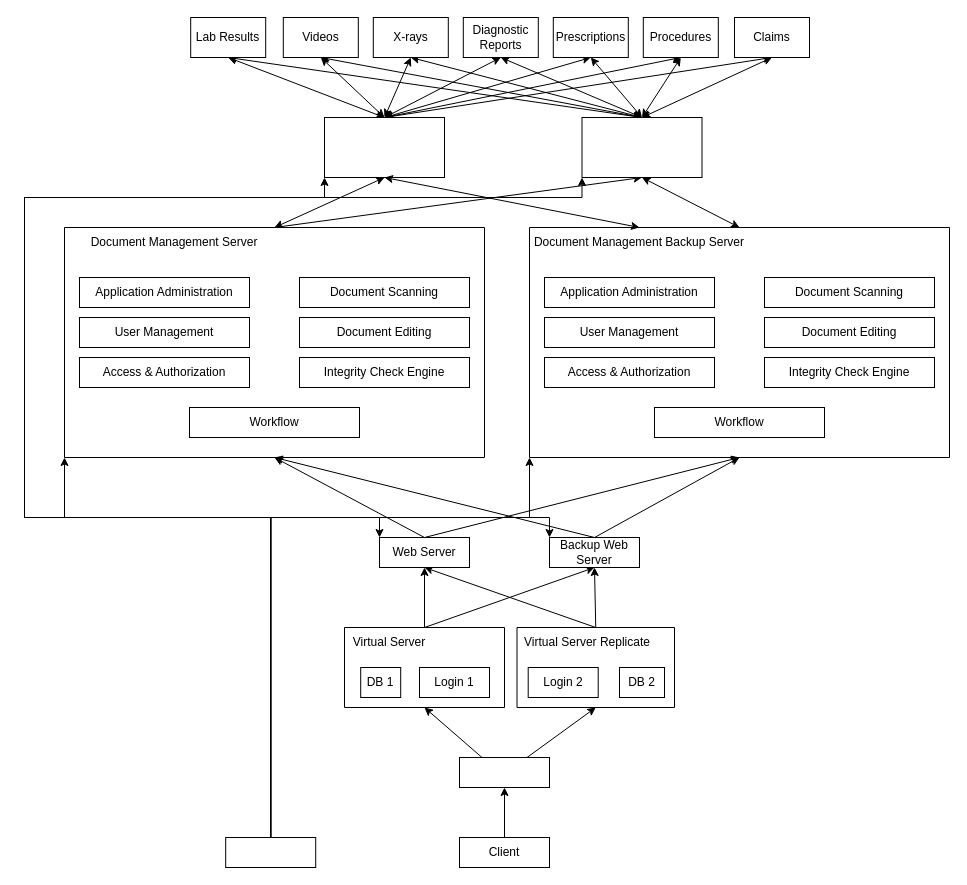
The diagram is 967 pixels wide and 885 high, and some of its shapes have lost their labels. The shapes that lost their labels are listed below. From the top down, each one's box as (x1, y1, x2, y2) in pixels, then its label:
(324, 116, 444, 178): DB Repository Virtual
(581, 116, 702, 178): DB Repository Virtual Backup
(458, 756, 550, 788): Load Balancer
(225, 836, 316, 868): Administrator
